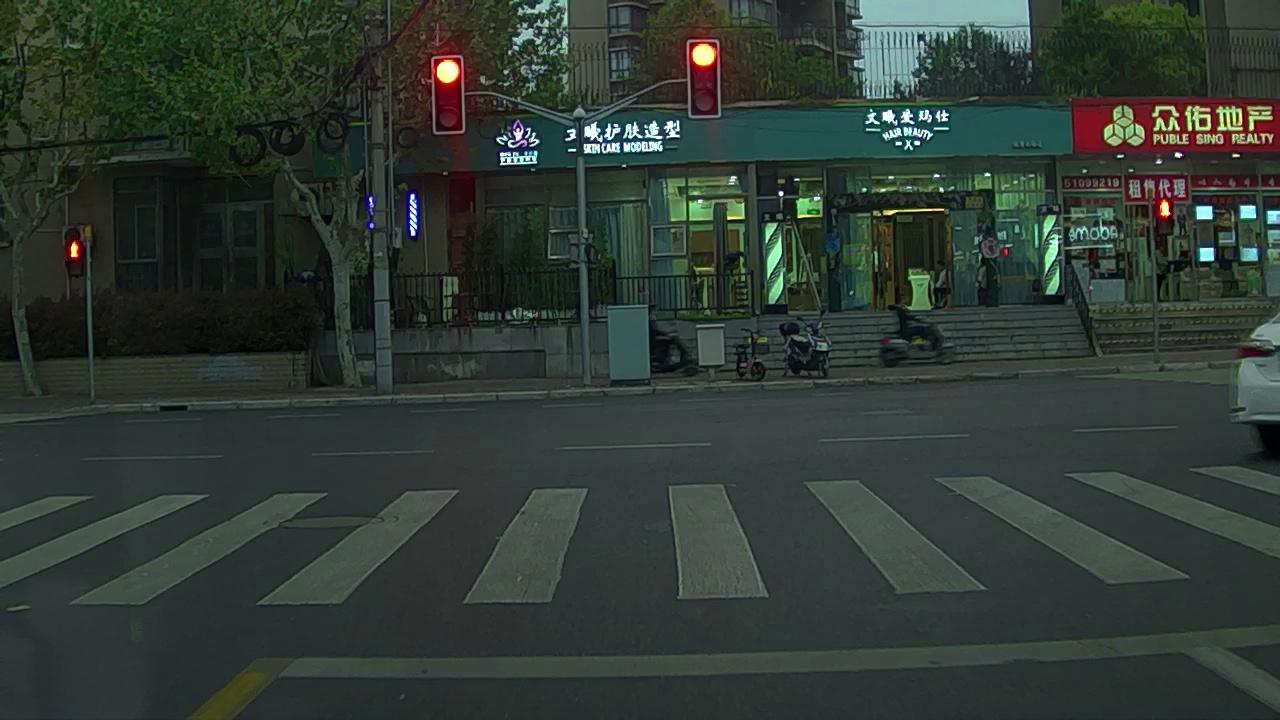traffic_light: (431, 54, 469, 131), (688, 39, 721, 116)
